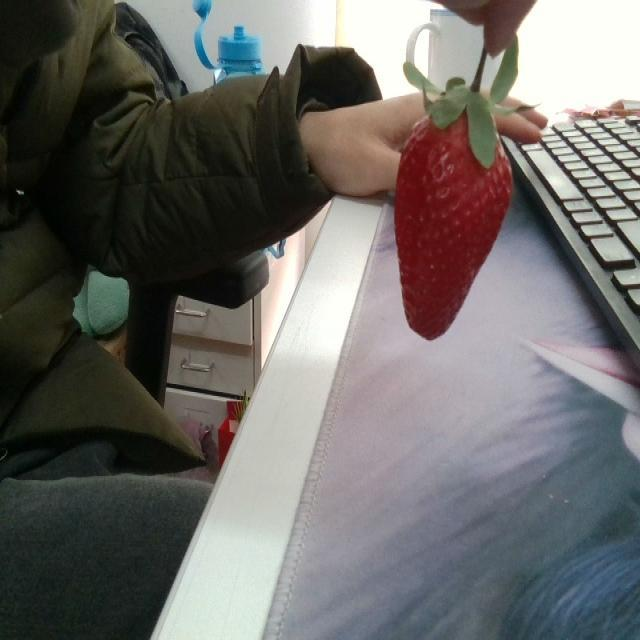straw-ripe: (394, 100, 512, 339)
